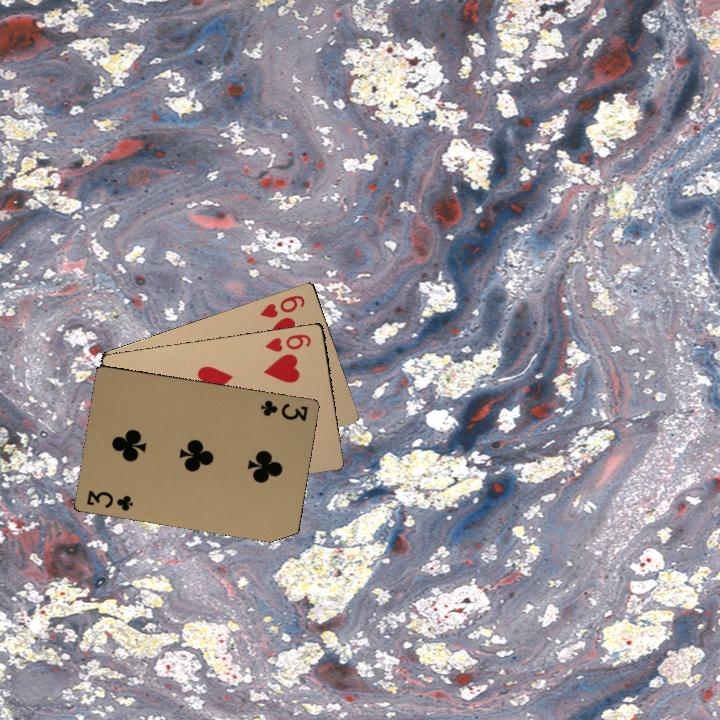3c: (257, 396, 310, 424), (83, 486, 136, 514)
6h: (257, 291, 307, 321), (262, 330, 313, 354)
